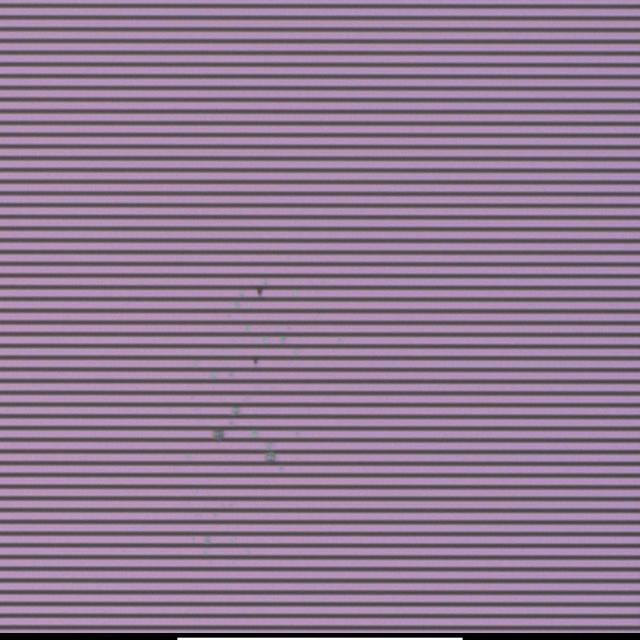nonvisual: (203, 273, 323, 474)
